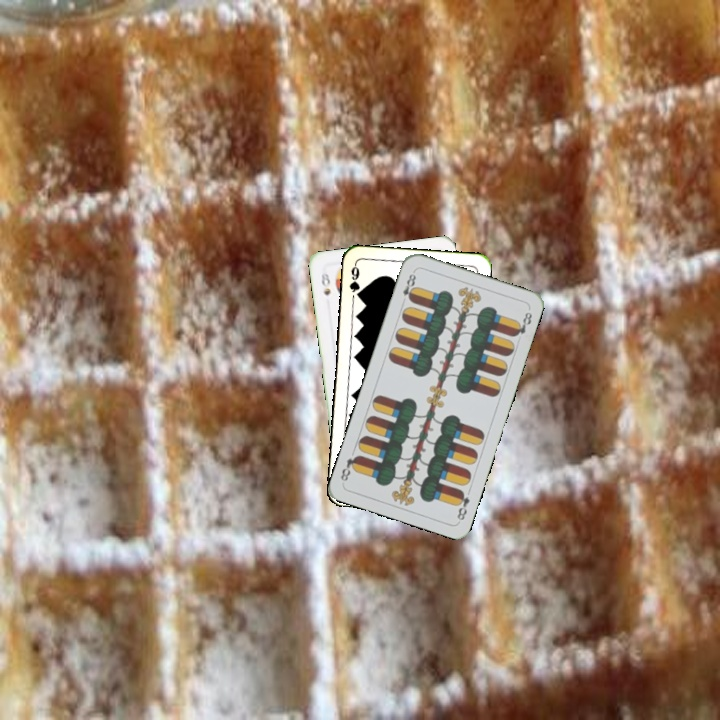E8: (399, 267, 419, 304), (452, 486, 472, 523)
G9: (345, 260, 364, 301)
S8: (317, 268, 333, 298)
